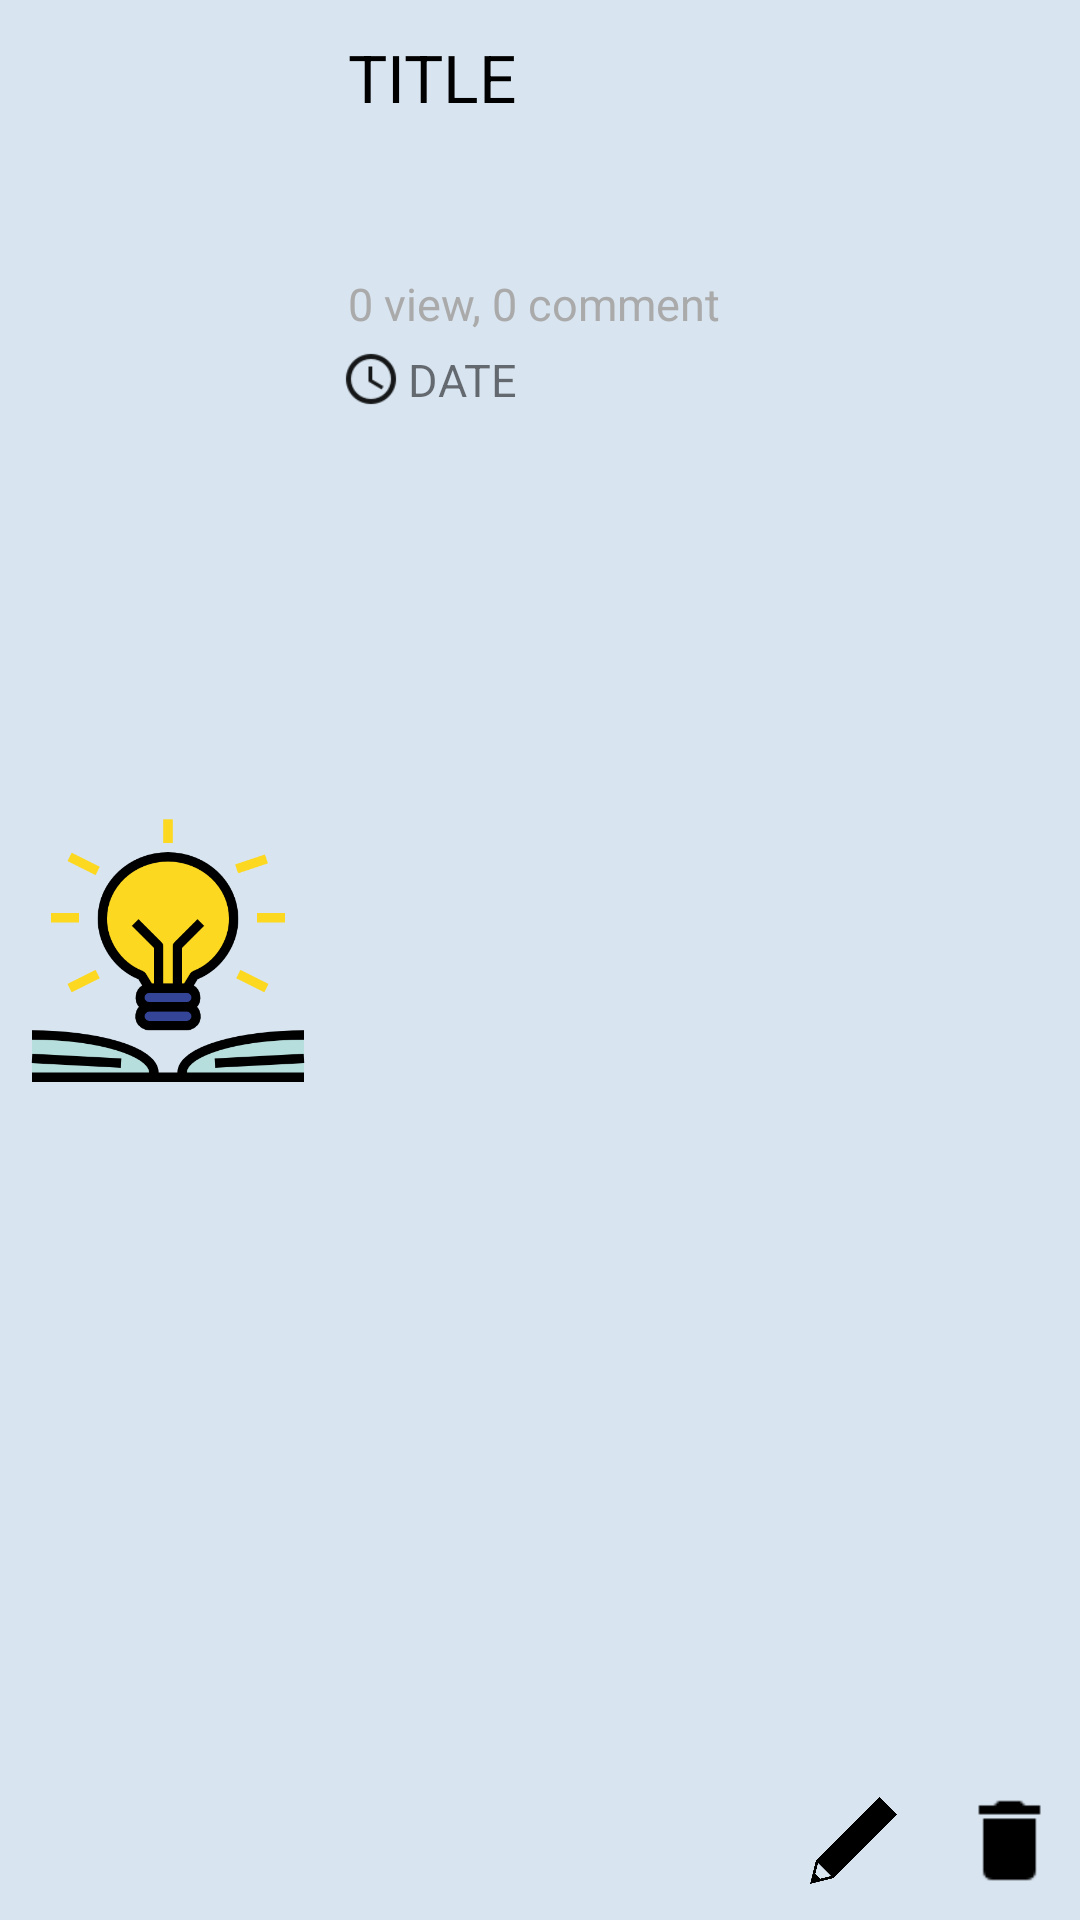

Where to tap for icons on this 1080w x 1920h app screen, as [x,y]:
clock: [371,379]
delete: [1009,1840]
pencil: [853,1840]
